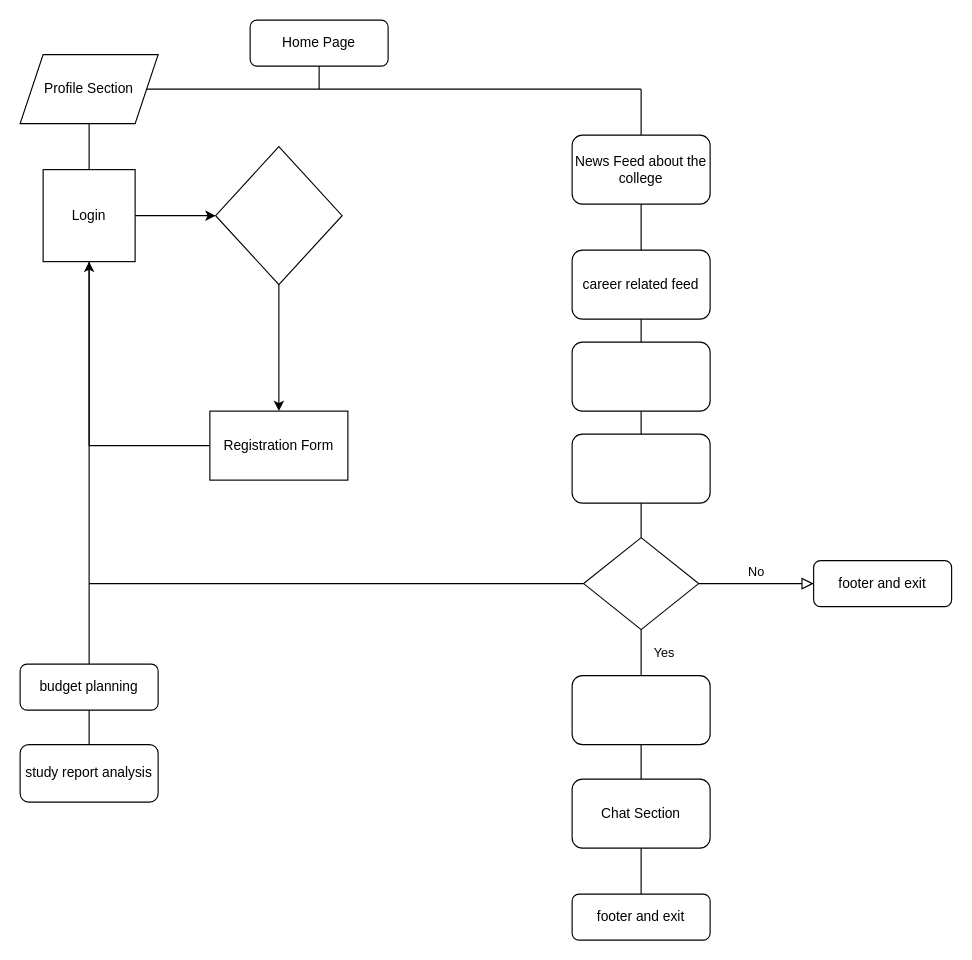
Some shapes in this 972 by 960 pixel diagram are drawn without their labels. The shapes that lost their labels are listed below. From the top down, each one's centre as x and y in pixels, then its label:
At point 278,215: "Dont have an account?".
At point 640,376: "about us".
At point 640,468: "Lost and found section".
At point 640,583: "Is Logged in?".
At point 640,709: "Daily Schedule".
